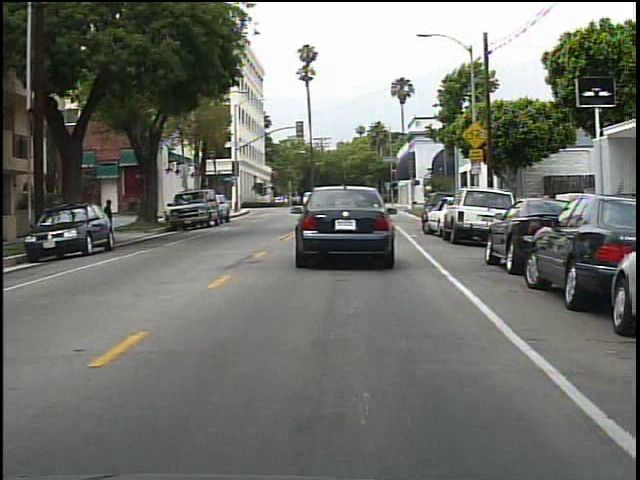person: (100, 195, 120, 244)
